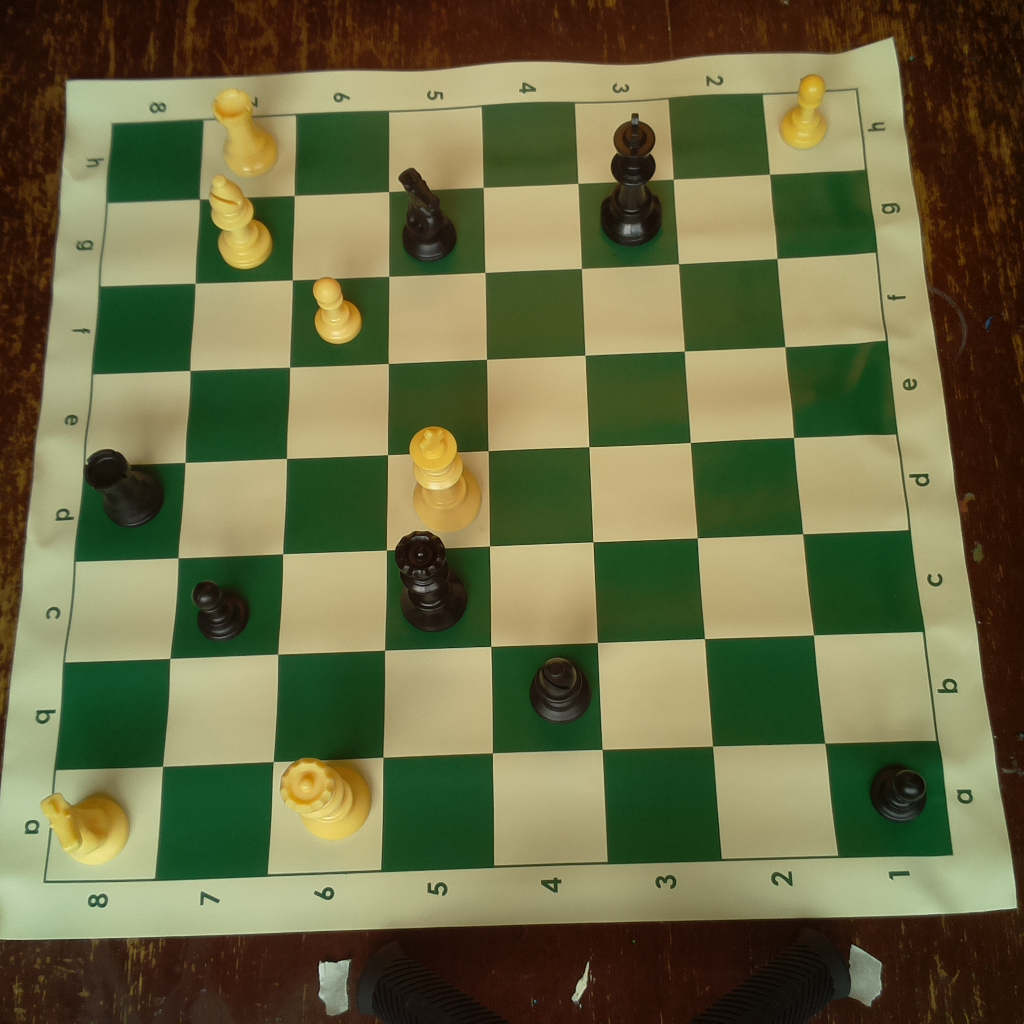black_bishop: (528, 653, 596, 726)
black_king: (594, 105, 668, 248)
black_knight: (392, 164, 464, 266)
black_pawn: (186, 569, 253, 645), (867, 754, 934, 828)
black_queen: (390, 528, 475, 636)
black_rook: (77, 443, 170, 530)
file_a: (45, 743, 953, 888)
file_b: (55, 632, 942, 770)
file_c: (63, 531, 927, 664)
file_d: (73, 434, 910, 561)
file_e: (83, 343, 897, 469)
file_f: (90, 251, 888, 373)
file_g: (99, 173, 876, 290)
file_h: (107, 90, 867, 204)
outline: (45, 90, 957, 886)
rank_1: (763, 91, 954, 858)
rank_2: (670, 95, 838, 860)
rank_3: (575, 97, 725, 862)
rank_4: (480, 101, 611, 866)
rank_5: (377, 106, 498, 873)
rank_6: (266, 112, 389, 877)
rank_7: (155, 117, 293, 882)
rank_8: (44, 122, 203, 882)
white_bishop: (203, 175, 277, 274)
white_king: (398, 419, 485, 528)
white_knight: (36, 778, 134, 866)
white_pawn: (773, 67, 836, 154), (306, 274, 367, 347)
white_queen: (276, 749, 376, 844)
white_rook: (211, 84, 280, 174)
